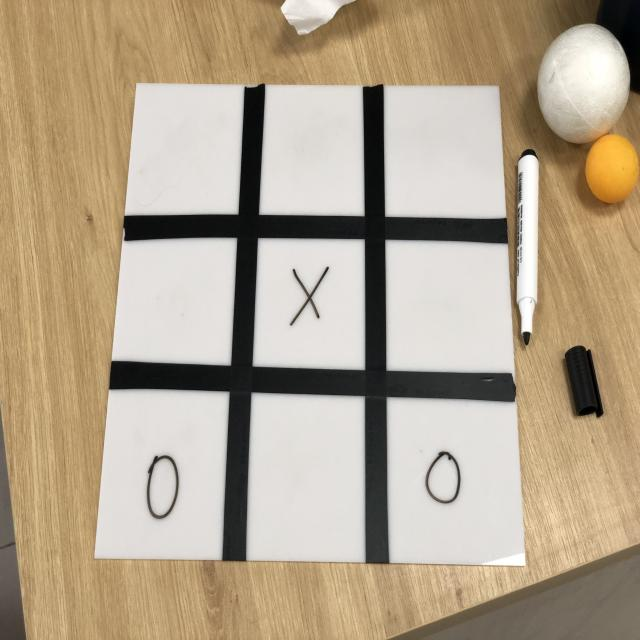null: (249, 386, 367, 559), (113, 224, 241, 368), (387, 240, 513, 375), (383, 79, 504, 215), (126, 82, 247, 216), (261, 82, 368, 215)
o: (136, 451, 185, 525), (422, 448, 464, 511)
table: (92, 78, 523, 566)
x: (289, 260, 333, 336)
